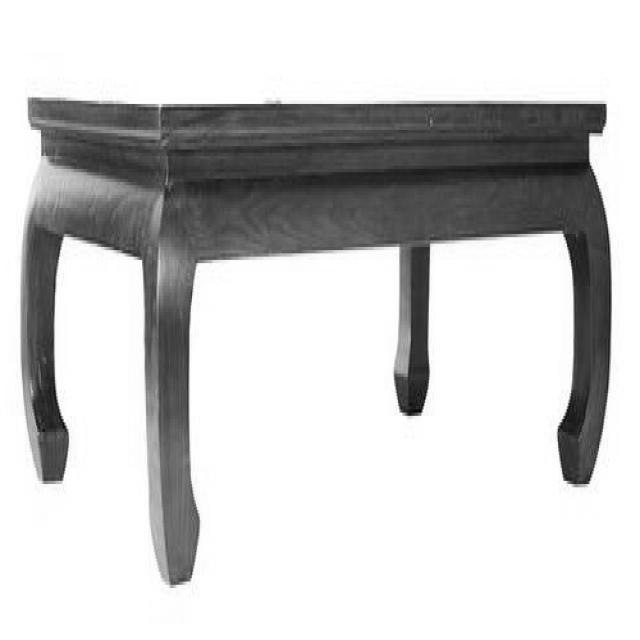table: (19, 95, 612, 589)
